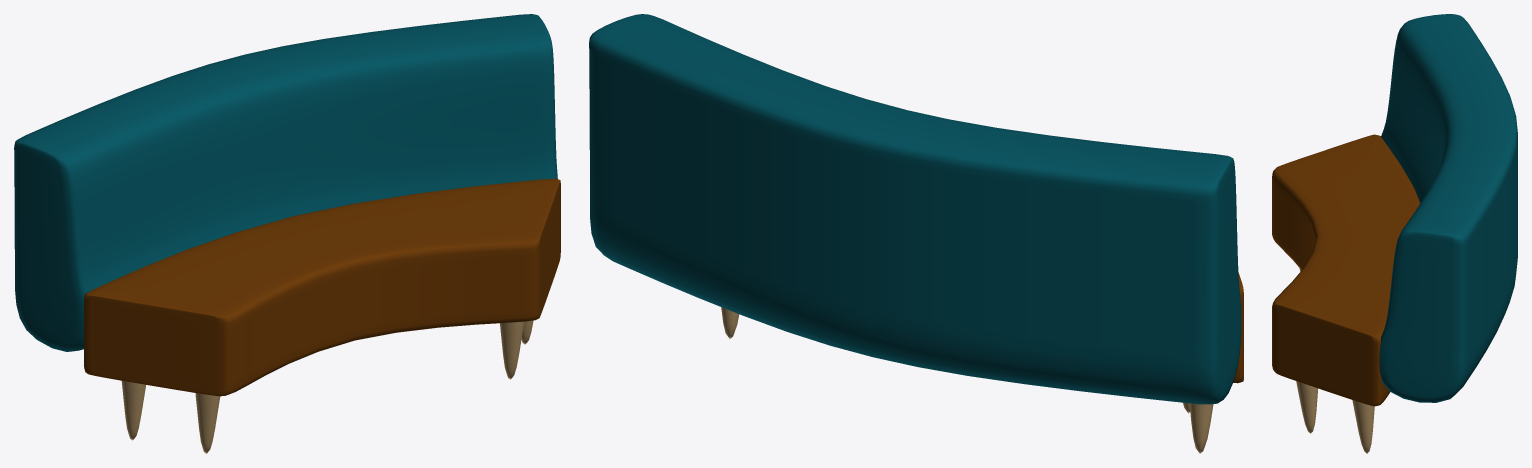
File: coachback.fbx
The picture shows the model from 3 angles, left to right: view 1: azimuth 30°, elevation 25°; view 2: azimuth 150°, elevation 25°; view 3: azimuth 270°, elevation 25°; orthographic projection. The views are drawn at different scales.
Visible parts, largest first — view 1: backsupport, coach, leg2, leg3, leg1; view 2: backsupport, leg3; view 3: backsupport, coach, leg, leg1.
Part boxes in pixels (bbox=[...]): backsupport: bbox=[14, 14, 557, 351]; coach: bbox=[84, 178, 560, 396]; leg2: bbox=[195, 393, 220, 453]; leg3: bbox=[121, 381, 145, 440]; leg1: bbox=[500, 321, 524, 379]; backsupport: bbox=[589, 14, 1241, 404]; leg3: bbox=[1189, 403, 1213, 453]; backsupport: bbox=[1379, 14, 1517, 402]; coach: bbox=[1272, 134, 1420, 406]; leg: bbox=[1352, 400, 1374, 453]; leg1: bbox=[1296, 381, 1318, 433].
Size of the model in its own units: 3.92 by 2.01 by 1.82.
